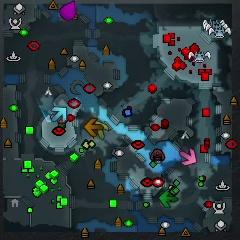p3: (60, 2, 76, 21)
x1: (179, 148, 197, 165)
x2: (94, 121, 109, 140)
x3: (51, 107, 67, 122)
x4: (159, 191, 178, 207)
x5: (84, 118, 102, 136)
